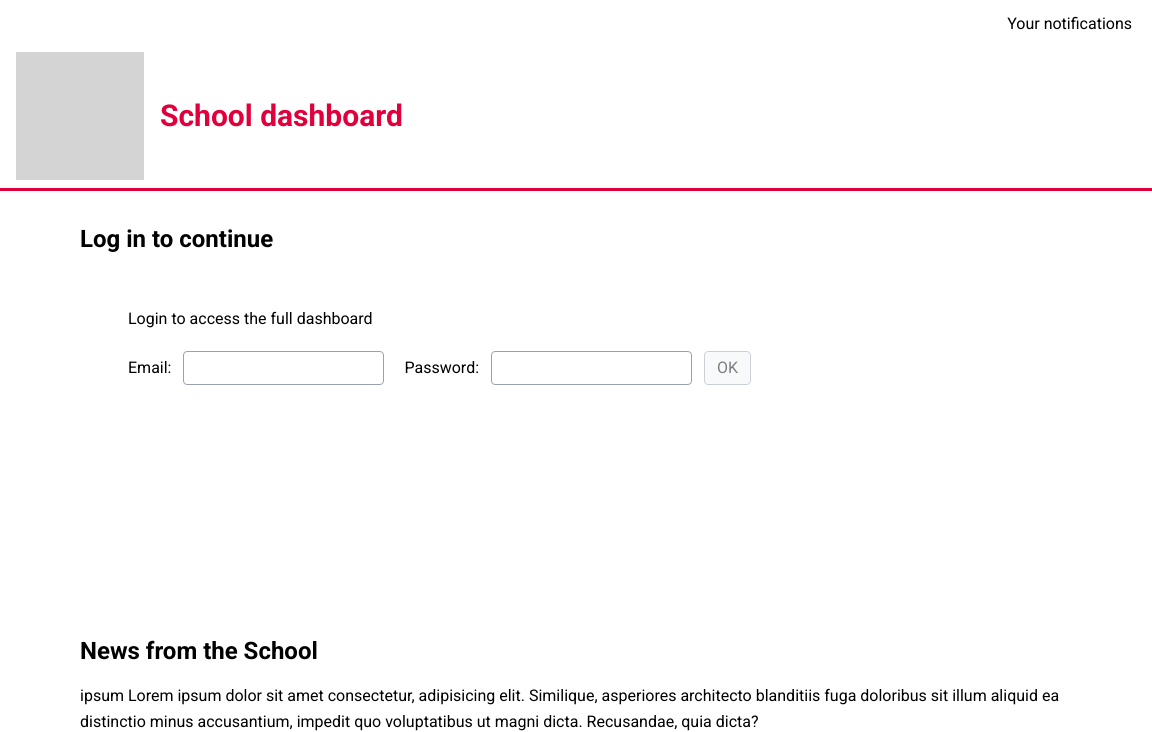
Test: App component › renders CourseList after a successful login
Type "user@example.com" into the field labelled "Email:" at [284, 368], box [184,351,384,385]
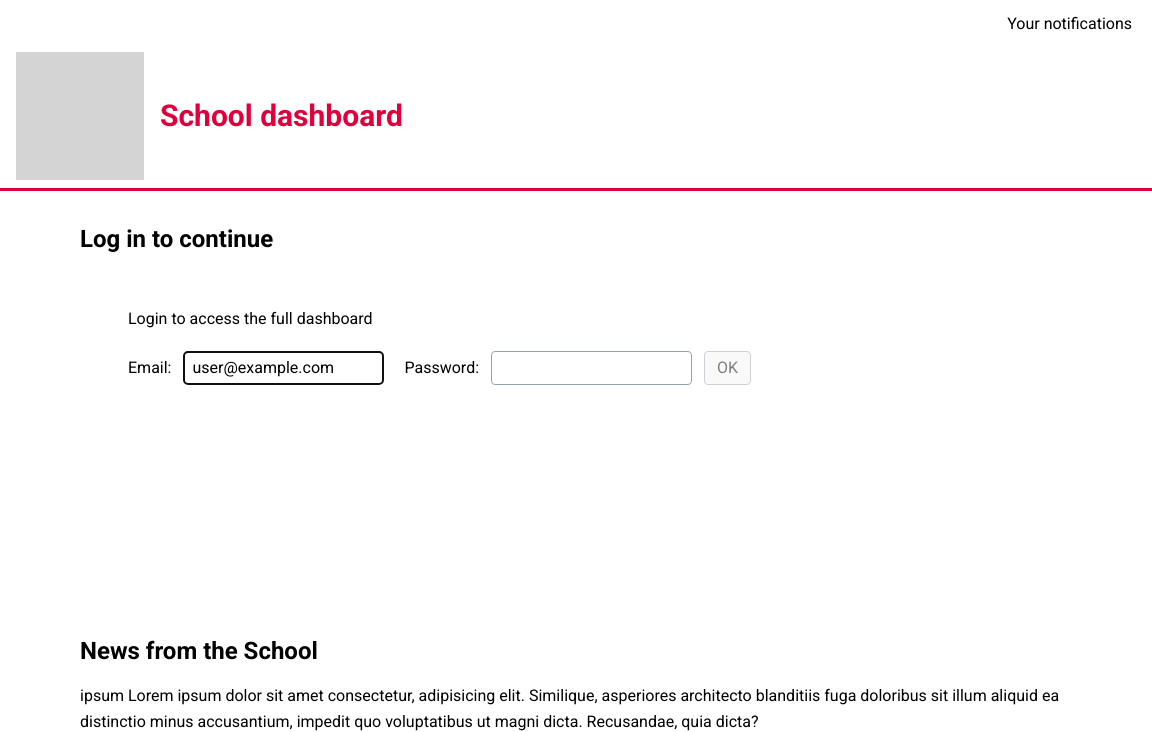
Type "password123" into the password field labelled "Password:" at [592, 368], box [491,351,692,385]
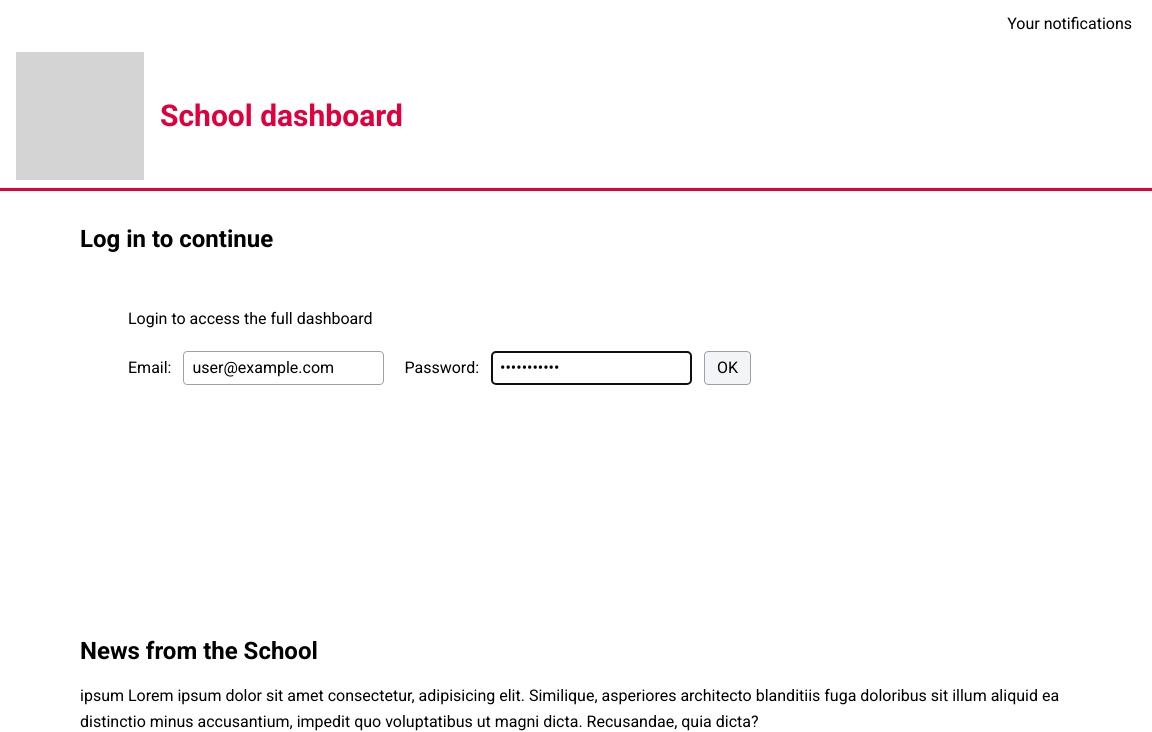
Expected: the button "OK" is enabled
Click the button "OK" at [728, 368], box [704,351,751,385]
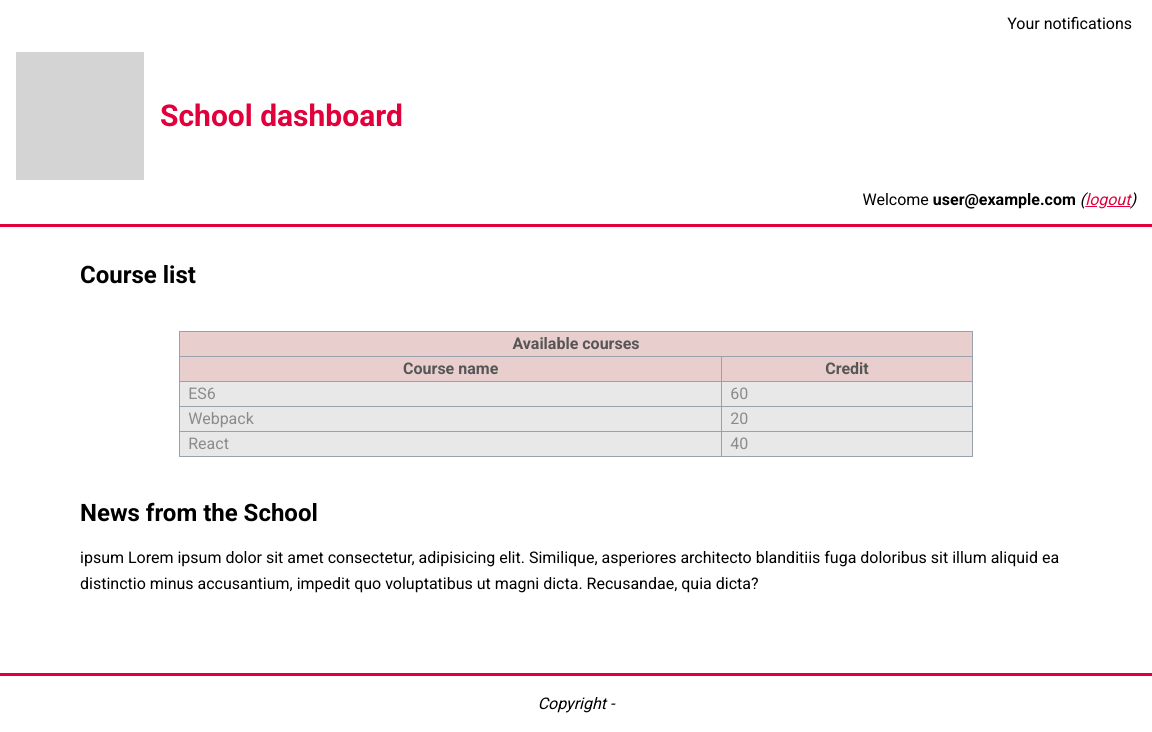
Expected: the table is shown, [179,331,973,457]
Expected: the column heading "Available courses" is shown, [180,332,972,356]
Expected: the text "Login to access the full dashboard" is gone
